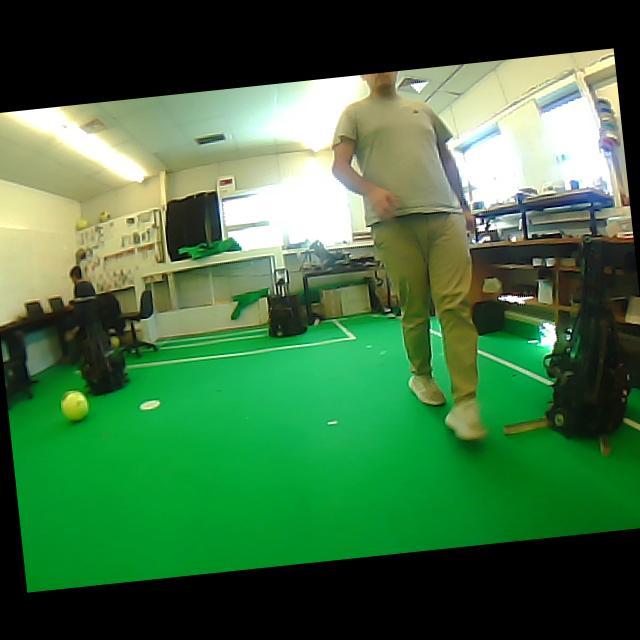ball: (60, 390, 88, 420), (75, 218, 89, 229), (98, 212, 109, 222), (110, 336, 120, 347)
robot: (545, 239, 629, 437), (75, 296, 128, 394), (267, 269, 306, 337)
